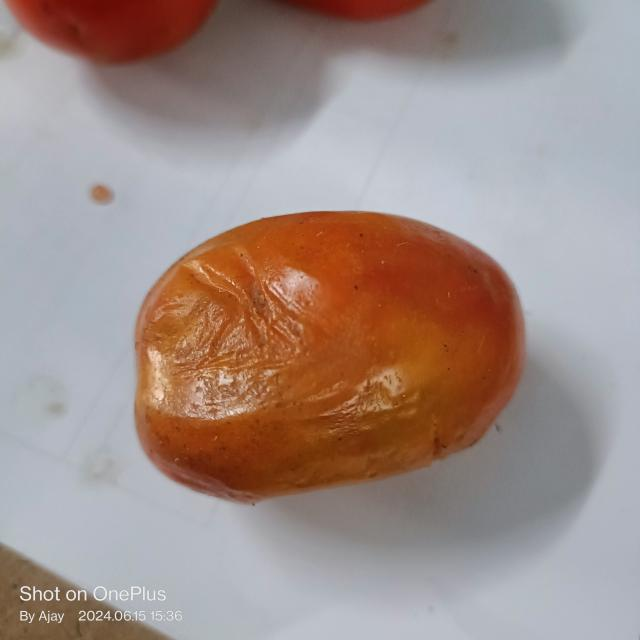Botrytis: (159, 277, 306, 398), (320, 373, 432, 435)
